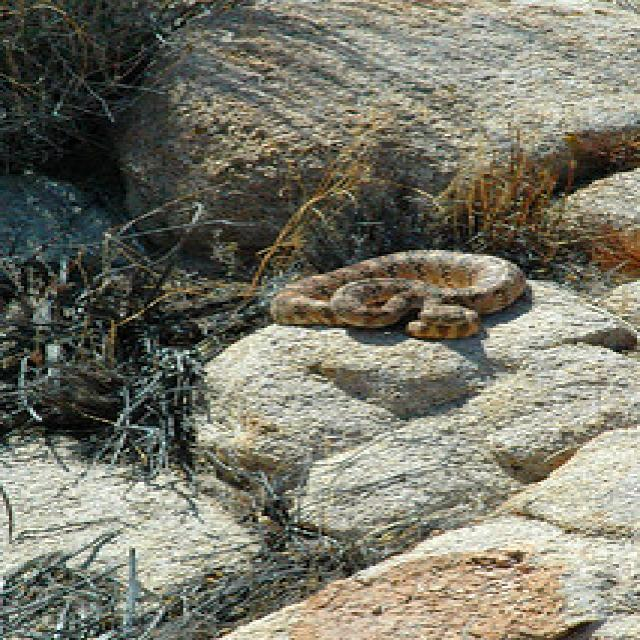Snake: (264, 246, 529, 340)
